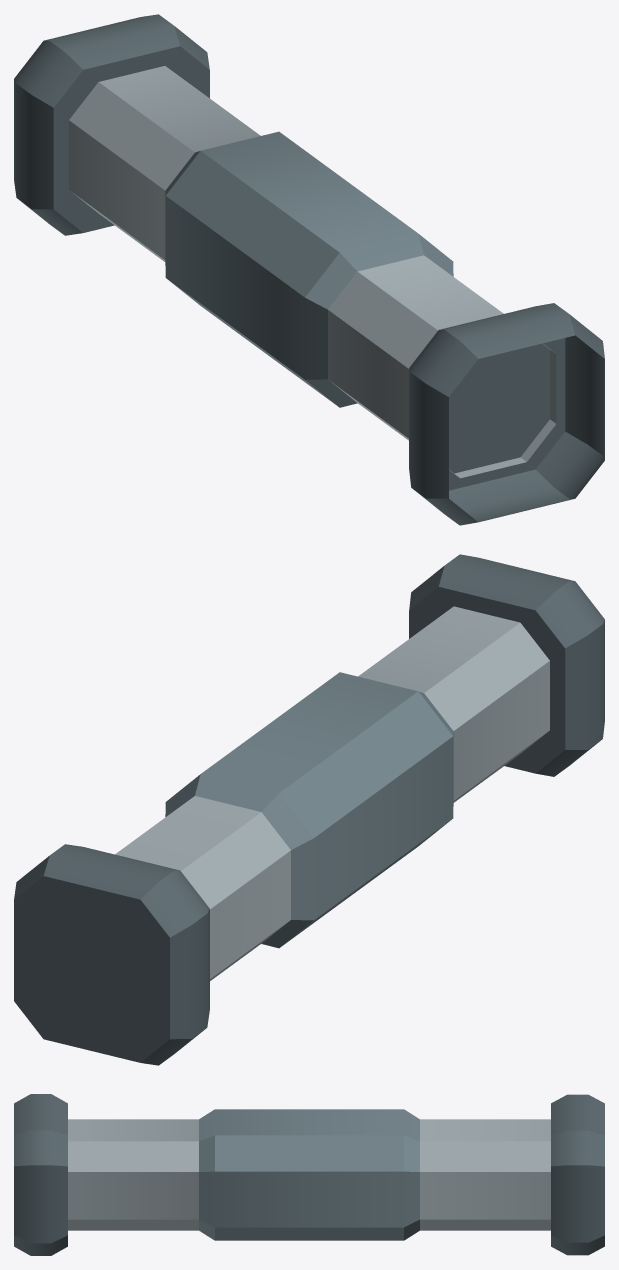
The model's file is Pillar 01.FBX.
3 views of the same model, one above another, from view 1: azimuth 30°, elevation 25°; view 2: azimuth 150°, elevation 25°; view 3: azimuth 270°, elevation 25° (orthographic). The views are drawn at different scales.
Parts seen in each view (by area): view 1: Pillar 01; view 2: Pillar 01; view 3: Pillar 01.
Part boxes in pixels (box(x1,y1,x2,y2)): Pillar 01: box(14, 14, 604, 525); Pillar 01: box(14, 554, 604, 1065); Pillar 01: box(14, 1094, 604, 1255).
Size of the model in its own units: 70.29 by 70.29 by 300.
Materials: 1 (1 with a texture image).
